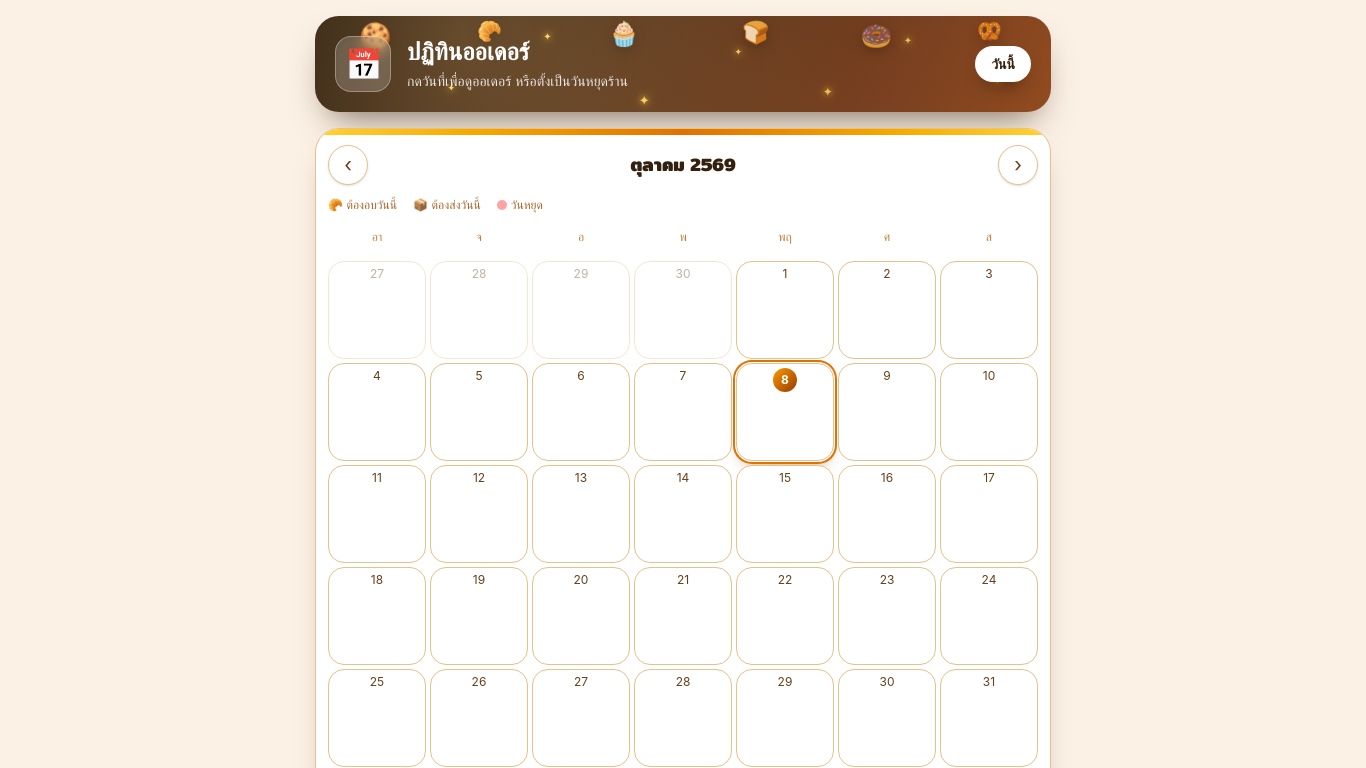
หน้าปฏิทินออเดอร์ › กดวันที่แล้วเปิดแผงรายละเอียด มีตัวเลือกตั้งวันหยุด
The image size is (1366, 768).
Click the button "8": (785, 412) [736,363,834,461]
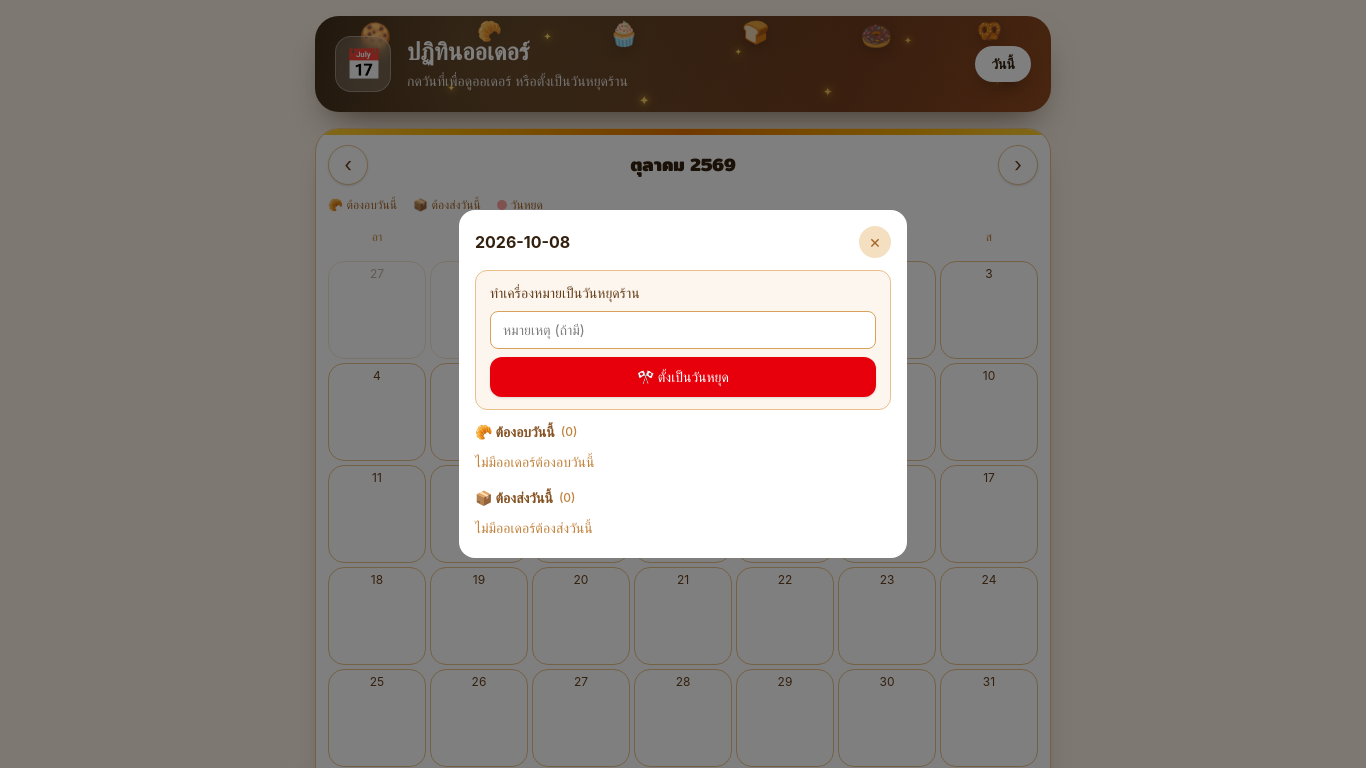
Check: the text "ทำเครื่องหมายเป็นวันหยุดร้าน" is shown, box [490,284,640,301]
